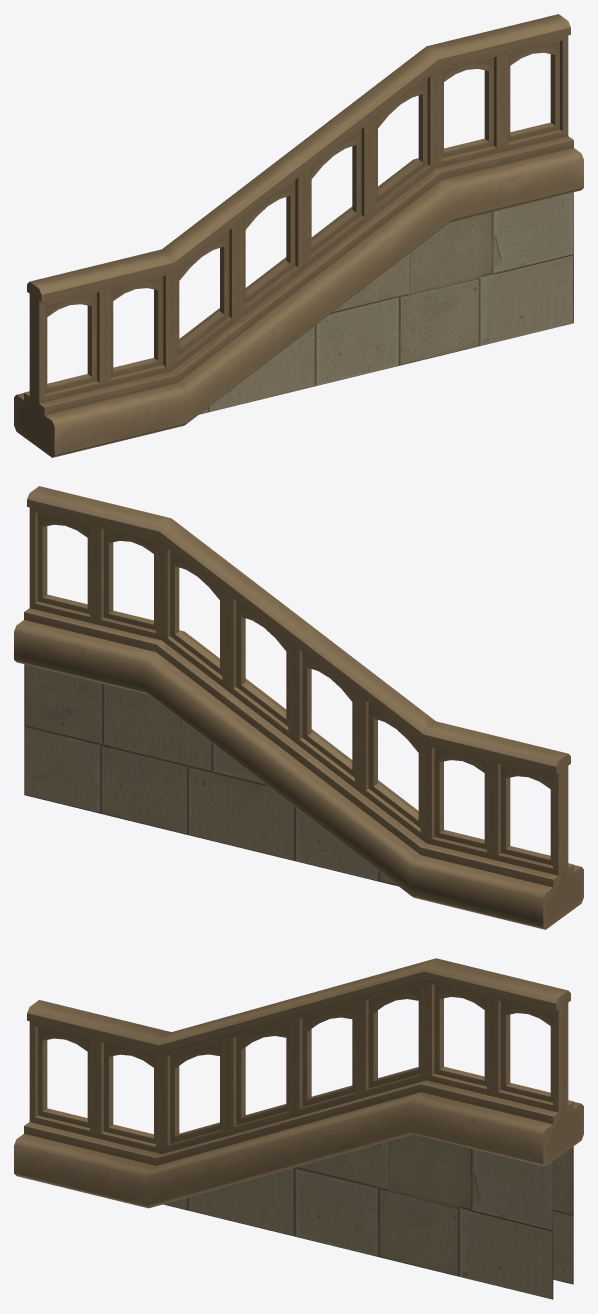
Rendered from ARC0510072.fbx.
3 views of the same model, one above another, from view 1: azimuth 30°, elevation 25°; view 2: azimuth 150°, elevation 25°; view 3: azimuth 330°, elevation 25° (orthographic).
Visible parts, largest first — view 1: smARC0510072; view 2: smARC0510072; view 3: smARC0510072.
Boxes of the visible parts, left/top/right/bottom form: smARC0510072: left=14, top=14, right=583, bottom=457; smARC0510072: left=14, top=486, right=583, bottom=929; smARC0510072: left=14, top=958, right=583, bottom=1299.
Size of the model in its own units: 300 by 161 by 40.
1 material, 1 textured.
